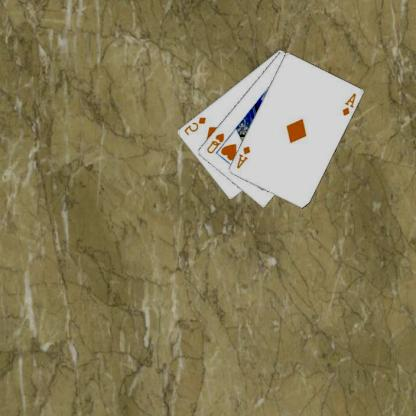5D: (182, 114, 209, 137)
AD: (341, 90, 359, 117), (236, 144, 253, 170)
QH: (206, 130, 227, 154)
